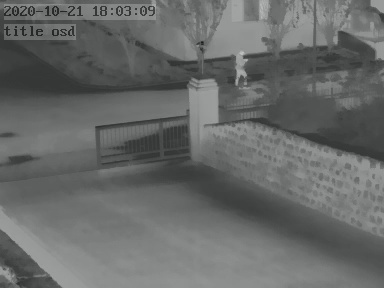person: (236, 49, 249, 85)
